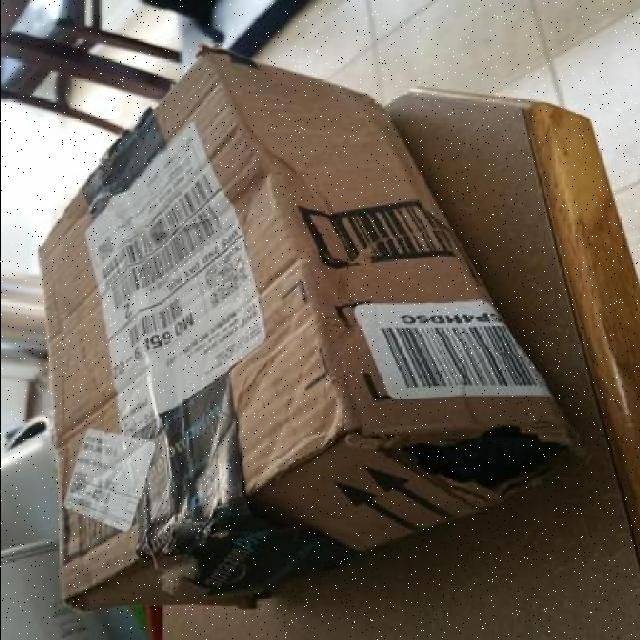defect: (32, 43, 570, 617)
